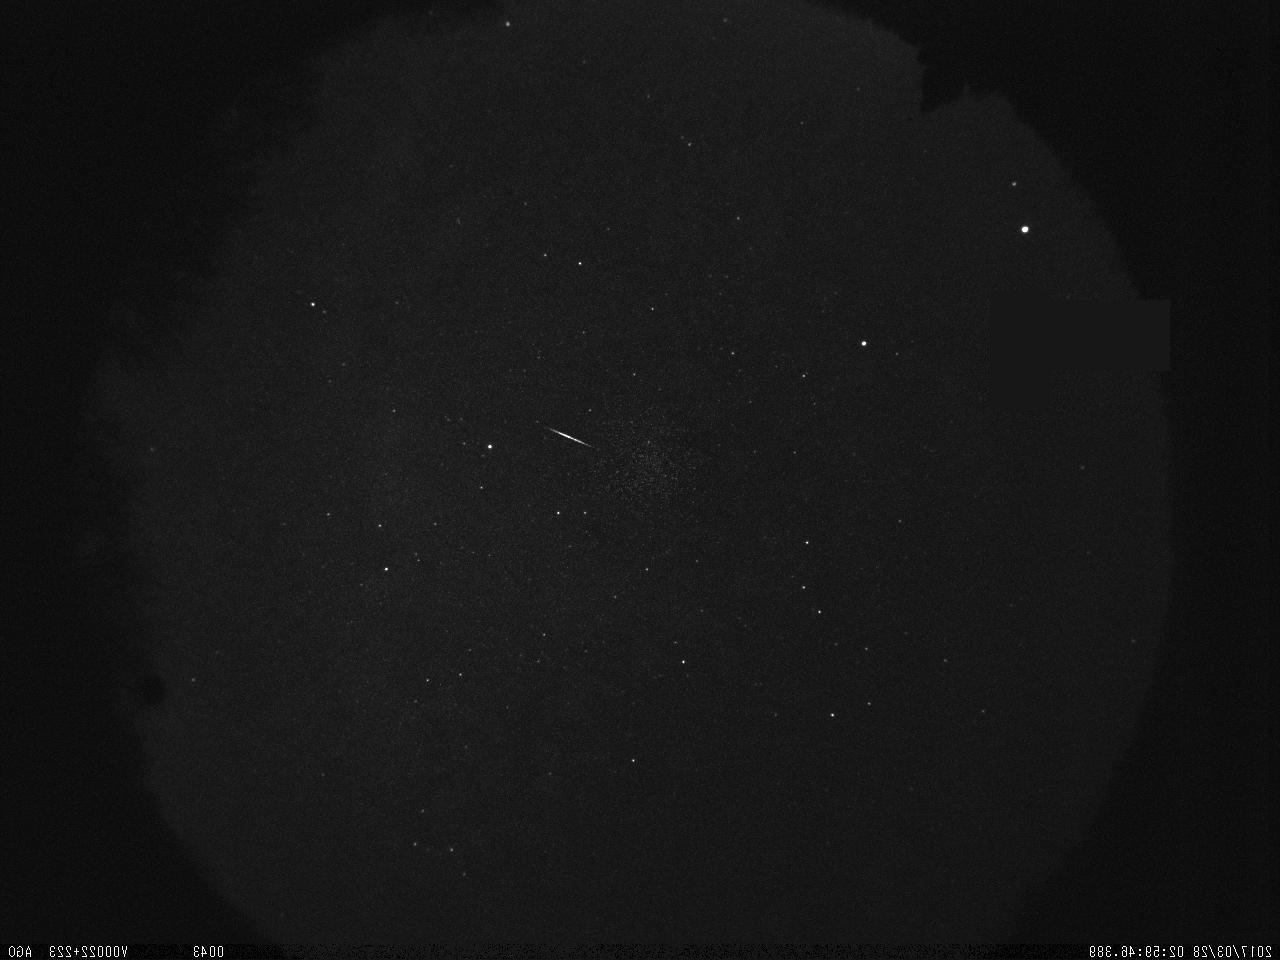meteor: (524, 404, 617, 467)
